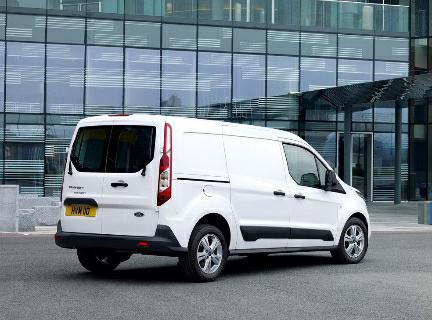福特-Transit: (52, 110, 380, 287)
